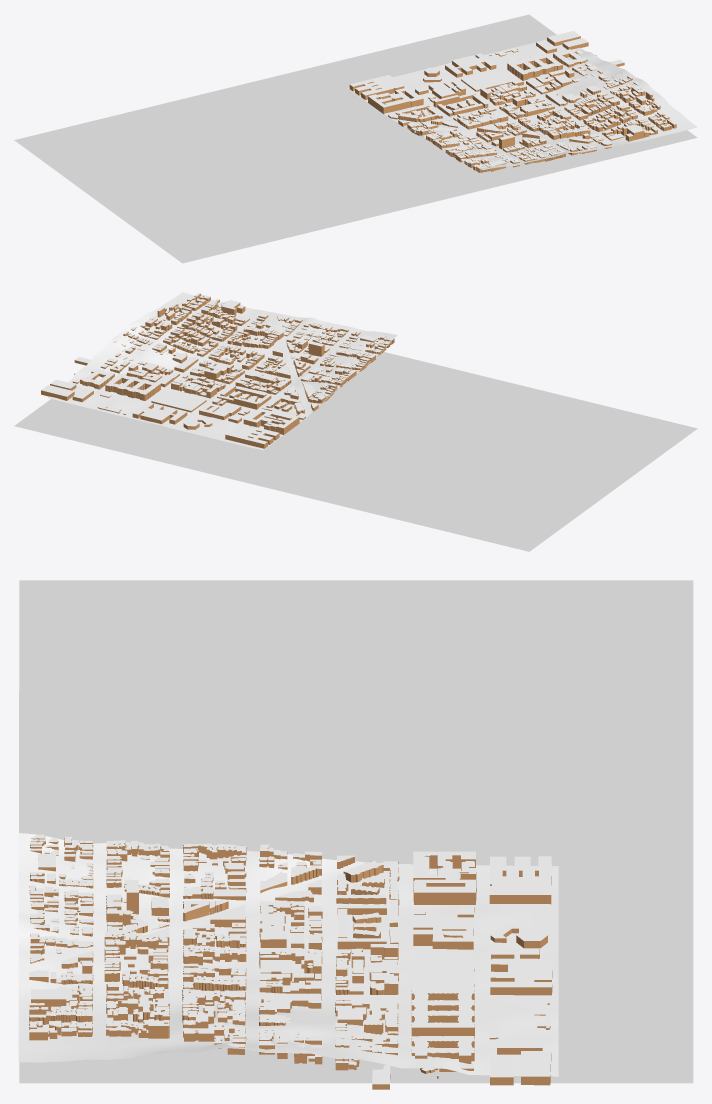
Rendered from envirounment.glb.
The picture shows the model from 3 angles, top to bottom: view 1: azimuth 30°, elevation 25°; view 2: azimuth 150°, elevation 25°; view 3: azimuth 270°, elevation 25°; orthographic projection. The views are drawn at different scales.
Visible parts, largest first — view 1: Terrain_envelope, map.osm_buildings.001, map.osm_buildings, Terrain; view 2: Terrain_envelope, map.osm_buildings.001, map.osm_buildings, Terrain; view 3: Terrain_envelope, map.osm_buildings.001, Terrain, map.osm_buildings.
Part boxes in pixels (x1,y1,x2,y2): Terrain_envelope: (14,14,697,263); map.osm_buildings.001: (350,31,675,167); map.osm_buildings: (349,36,676,172); Terrain: (348,39,697,170); Terrain_envelope: (14,352,697,551); map.osm_buildings.001: (41,293,392,444); map.osm_buildings: (41,294,394,448); Terrain: (48,292,397,450); Terrain_envelope: (19,580,693,1083); map.osm_buildings.001: (29,834,552,1084); Terrain: (18,833,558,1076); map.osm_buildings: (29,838,552,1089).
Bounding box in the file's own units: 1684 × 68.4 × 927.
